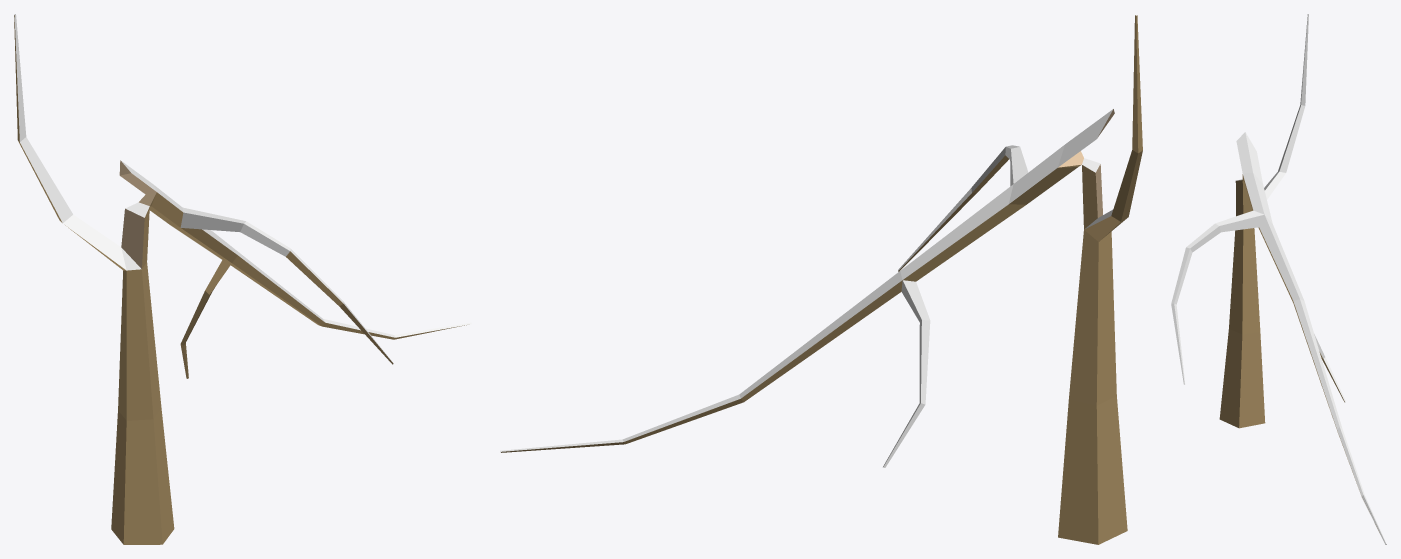
The model's file is Random_Tree_NoLeaves_crk_m_Snow_04.fbx.
3 renders of one model, left to right at view 1: azimuth 30°, elevation 25°; view 2: azimuth 150°, elevation 25°; view 3: azimuth 270°, elevation 25°, orthographic. The views are drawn at different scales.
Visible parts, largest first — view 1: Random_Tree_NoLeaves_crk_m_Snow_04; view 2: Random_Tree_NoLeaves_crk_m_Snow_04; view 3: Random_Tree_NoLeaves_crk_m_Snow_04.
Part boxes in pixels (x1,y1,x2,y2): Random_Tree_NoLeaves_crk_m_Snow_04: (14,14,471,544); Random_Tree_NoLeaves_crk_m_Snow_04: (500,14,1142,544); Random_Tree_NoLeaves_crk_m_Snow_04: (1171,14,1386,544).
Size of the model in its own units: 537 by 510 by 267.
